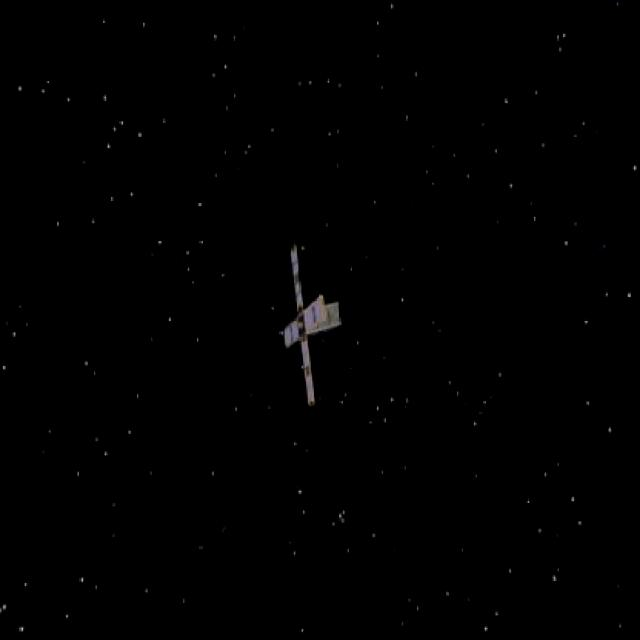medium_debris: (271, 240, 346, 431)
